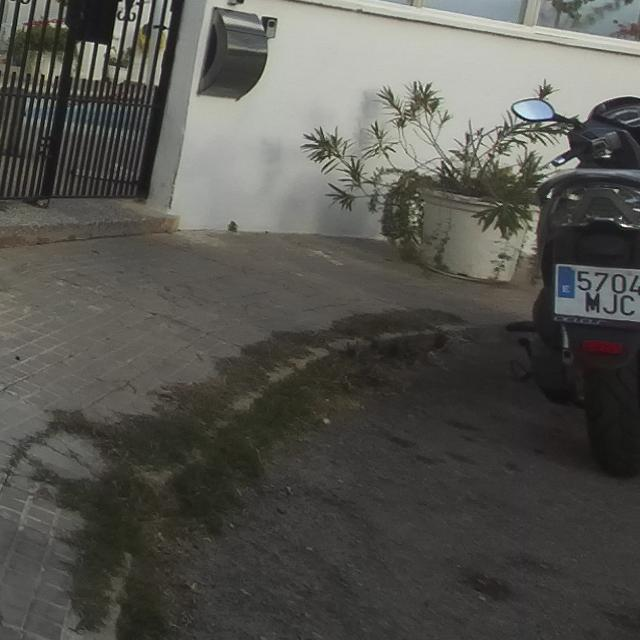calcada_quebrada: (34, 435, 99, 476)
